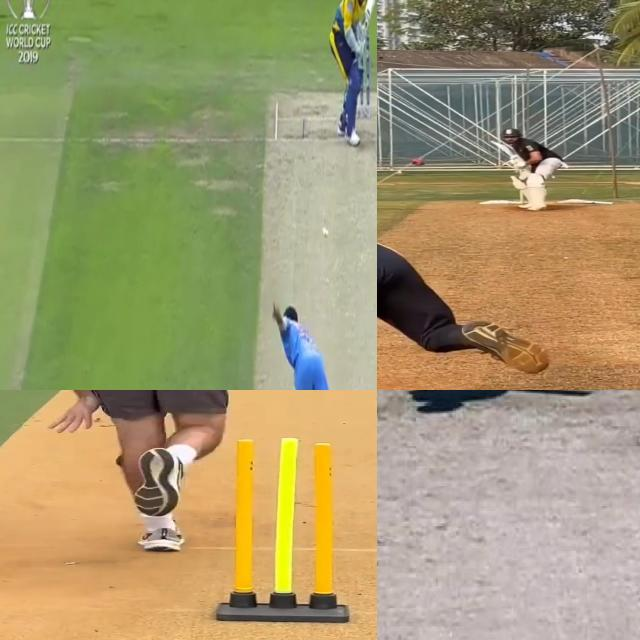Cricket ball: (320, 224, 330, 241), (412, 158, 425, 165)
Stumps: (214, 436, 351, 624)
